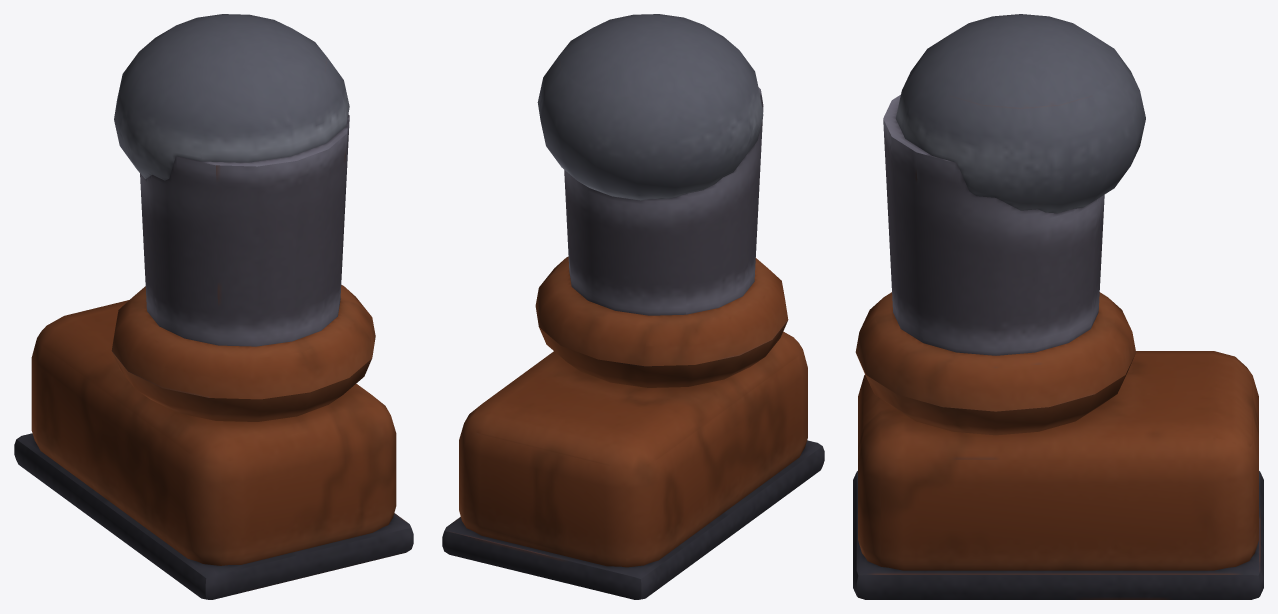
Rendered from shin_r.glb.
3 views of the same model, side by side, from view 1: azimuth 30°, elevation 25°; view 2: azimuth 150°, elevation 25°; view 3: azimuth 270°, elevation 25° (orthographic). The views are drawn at different scales.
Visible parts, largest first — view 1: shin_r; view 2: shin_r; view 3: shin_r.
Part boxes in pixels (left/top/right/bottom): shin_r: left=14, top=14, right=413, bottom=599; shin_r: left=442, top=14, right=824, bottom=599; shin_r: left=853, top=14, right=1263, bottom=599.
Bounding box in the file's own units: 0.112 × 0.23 × 0.164.
4 materials, 4 textured.
